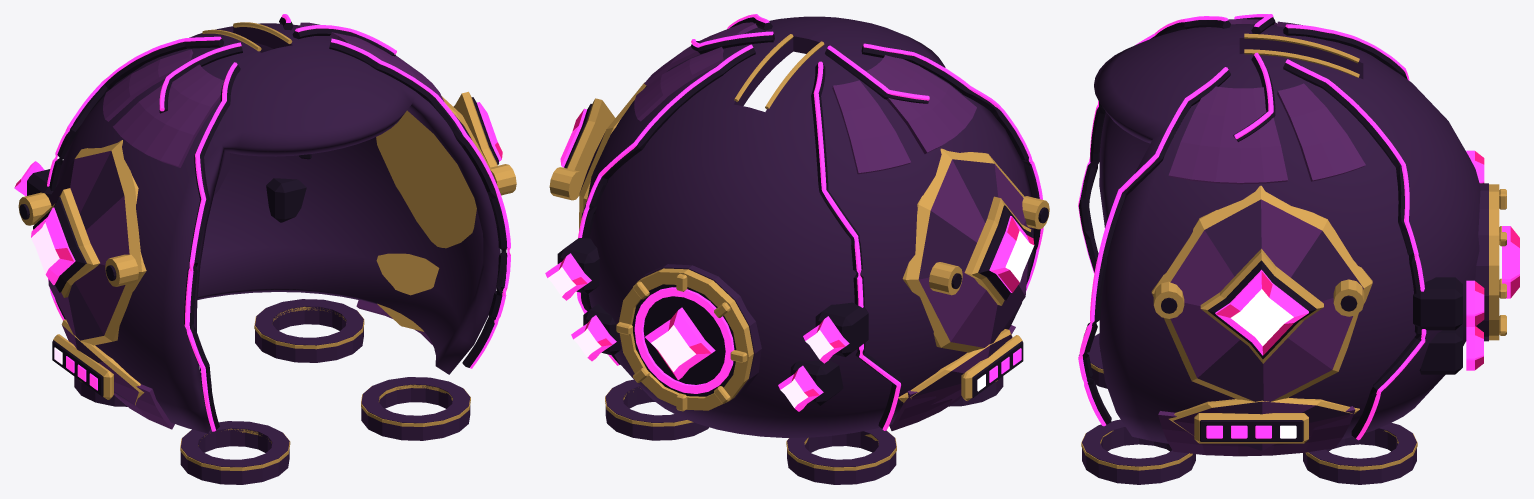
File: finalboss-overdrive-v3-accessories.fbx
The picture shows the model from 3 angles, left to right: view 1: azimuth 30°, elevation 25°; view 2: azimuth 150°, elevation 25°; view 3: azimuth 270°, elevation 25°; orthographic projection. The views are drawn at different scales.
Parts seen in each view (by area): view 1: OverdriveContinuousShell, OverdriveShoulderShield_-1, OverdriveShoulderShield_1, OverdriveInsetPlate_-1_0, OverdriveAnkleCuff_1_1, OverdriveAnkleCuff_1_0, OverdriveAnkleCuff_-1_0, OverdriveChannelBed_1_0, OverdriveHipPlate_1, OverdriveChannelBed_-1_0, OverdriveInsetPlate_-1_1, OverdriveEnergyChannel_-1_0 (+22 smaller); view 2: OverdriveContinuousShell, OverdriveShoulderShield_-1, OverdriveInsetPlate_-1_0, OverdriveReactorGoldRim, OverdriveAnkleCuff_-1_1, OverdriveInsetPlate_-1_1, OverdriveReactorWell, OverdriveAnkleCuff_1_1, OverdriveReactorEnergyRing, OverdriveRearCore, OverdriveHipPlate_-1, OverdriveChannelBed_-1_0 (+32 smaller); view 3: OverdriveContinuousShell, OverdriveShoulderShield_1, OverdriveInsetPlate_1_0, OverdriveInsetPlate_1_1, OverdriveAnkleCuff_1_0, OverdriveAnkleCuff_1_1, OverdriveShoulderCore_1, OverdriveInsetPlate_1_2, OverdriveHipPlate_1, OverdriveChannelBed_1_1, OverdriveChannelBed_1_0, OverdriveCartridgeMount_1_1 (+26 smaller).
Boxes of the visible parts, x1,y1,x2,y2 form: OverdriveContinuousShell: (56, 23, 500, 433); OverdriveShoulderShield_-1: (48, 140, 146, 345); OverdriveShoulderShield_1: (376, 96, 490, 248); OverdriveInsetPlate_-1_0: (113, 64, 223, 167); OverdriveAnkleCuff_1_1: (255, 299, 363, 362); OverdriveAnkleCuff_1_0: (361, 377, 470, 440); OverdriveAnkleCuff_-1_0: (180, 421, 289, 484); OverdriveChannelBed_1_0: (329, 40, 507, 367); OverdriveHipPlate_1: (376, 253, 439, 331); OverdriveChannelBed_-1_0: (184, 65, 240, 429); OverdriveInsetPlate_-1_1: (103, 49, 192, 121); OverdriveEnergyChannel_-1_0: (184, 62, 237, 431); OverdriveContinuousShell: (581, 16, 1033, 437); OverdriveShoulderShield_-1: (902, 148, 1030, 352); OverdriveInsetPlate_-1_0: (866, 55, 976, 153); OverdriveReactorGoldRim: (618, 268, 753, 410); OverdriveAnkleCuff_-1_1: (787, 427, 896, 484); OverdriveInsetPlate_-1_1: (832, 80, 911, 174); OverdriveReactorWell: (632, 284, 736, 396); OverdriveAnkleCuff_1_1: (605, 379, 708, 440); OverdriveReactorEnergyRing: (634, 287, 734, 393); OverdriveRearCore: (645, 307, 715, 380); OverdriveHipPlate_-1: (898, 329, 1012, 404); OverdriveChannelBed_-1_0: (861, 45, 1040, 283); OverdriveContinuousShell: (1094, 24, 1480, 443); OverdriveShoulderShield_1: (1151, 185, 1372, 401); OverdriveInsetPlate_1_0: (1168, 86, 1287, 184); OverdriveInsetPlate_1_1: (1277, 83, 1365, 181); OverdriveAnkleCuff_1_0: (1082, 419, 1195, 484); OverdriveAnkleCuff_1_1: (1303, 423, 1416, 484); OverdriveShoulderCore_1: (1215, 269, 1308, 355); OverdriveInsetPlate_1_2: (1158, 406, 1355, 456); OverdriveHipPlate_1: (1169, 397, 1359, 450); OverdriveChannelBed_1_1: (1283, 63, 1421, 438); OverdriveChannelBed_1_0: (1079, 70, 1230, 424); OverdriveCartridgeMount_1_1: (1413, 277, 1462, 330).
Bounding box in the file's own units: 1468 × 1150 × 1223.
